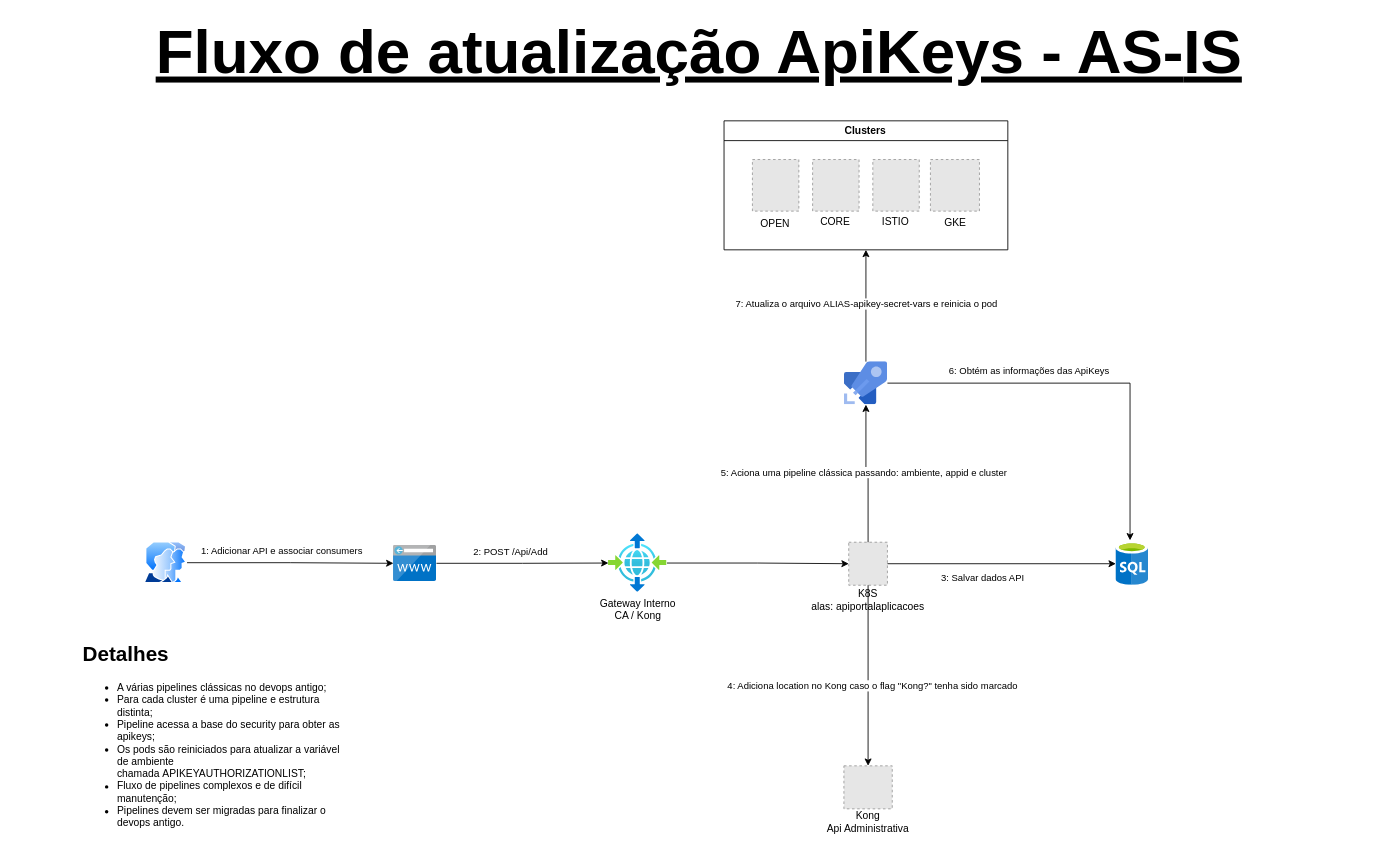
Image size: 1397x851. Some labels were removed from this diagram. Grey dashed boxes stand in for pictures. Each missing label, with the centre of its shape:
App Security alias: portalaplicacoes-web: the point at 414,563
INFRA_K8S_CONFIG: the point at 1131,563
